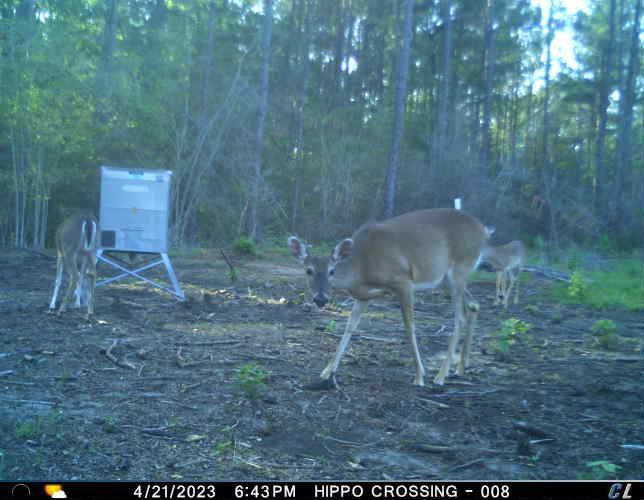Deer: (281, 204, 488, 390), (49, 206, 101, 318), (481, 224, 532, 312)
